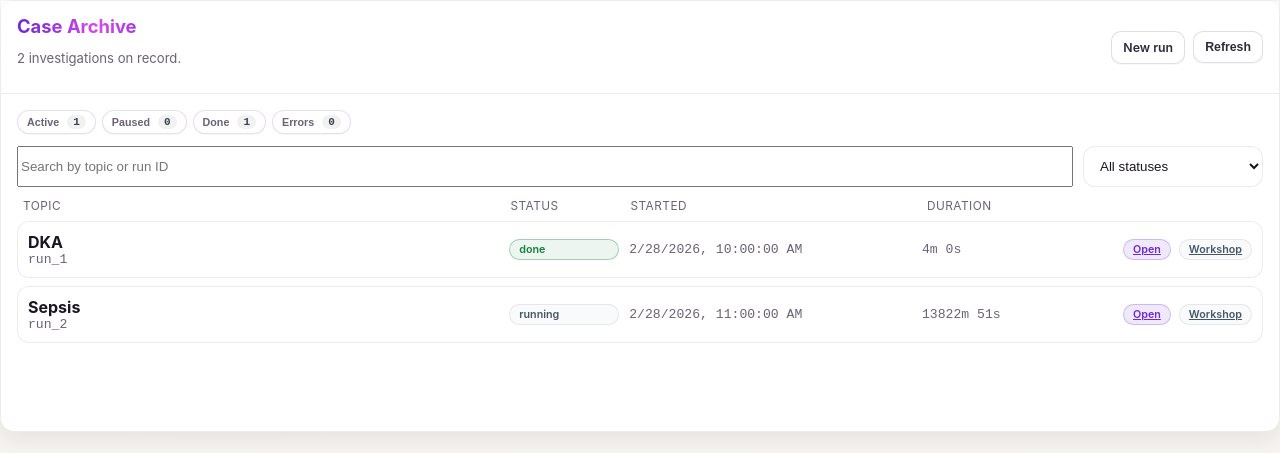
Test: RunsListPage › loads and renders runs, then filters by search
expect the text "DKA" is shown: met, box x1=28 y1=232 x2=63 y2=252
expect the text "Sepsis" is shown: met, box x1=28 y1=297 x2=80 y2=317
Type "run_2" into the field named "Runs search" at (545, 167), box x1=17 y1=146 x2=1073 y2=187
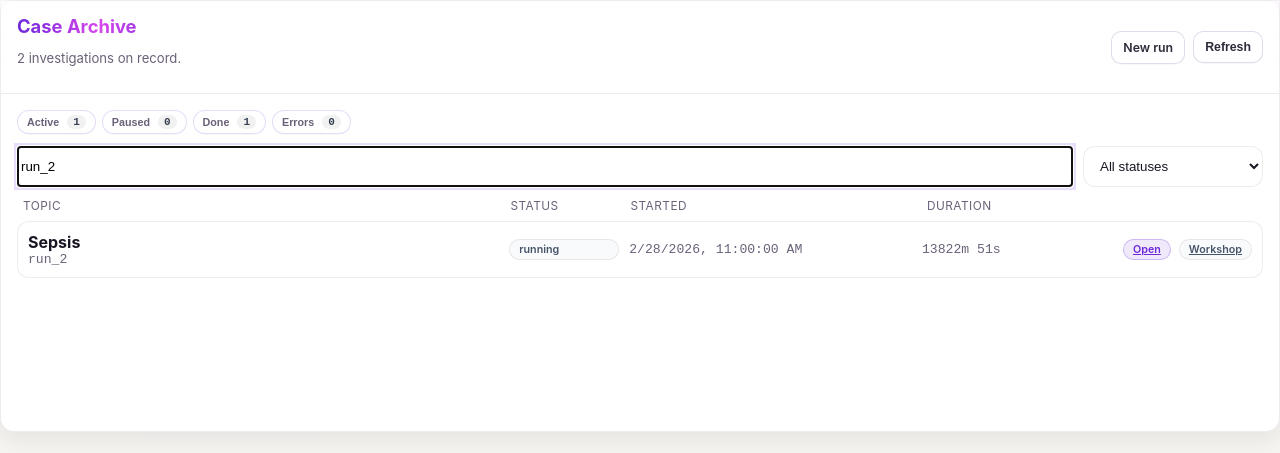
expect the text "Sepsis" is shown: met, box x1=28 y1=232 x2=80 y2=252
expect the text "DKA" is gone: met
